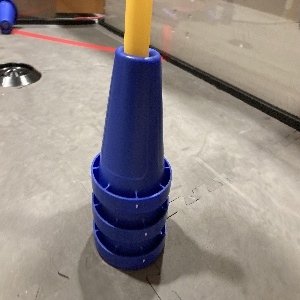Blue_1: (0, 0, 22, 35)
Blue_3: (82, 39, 177, 280)
